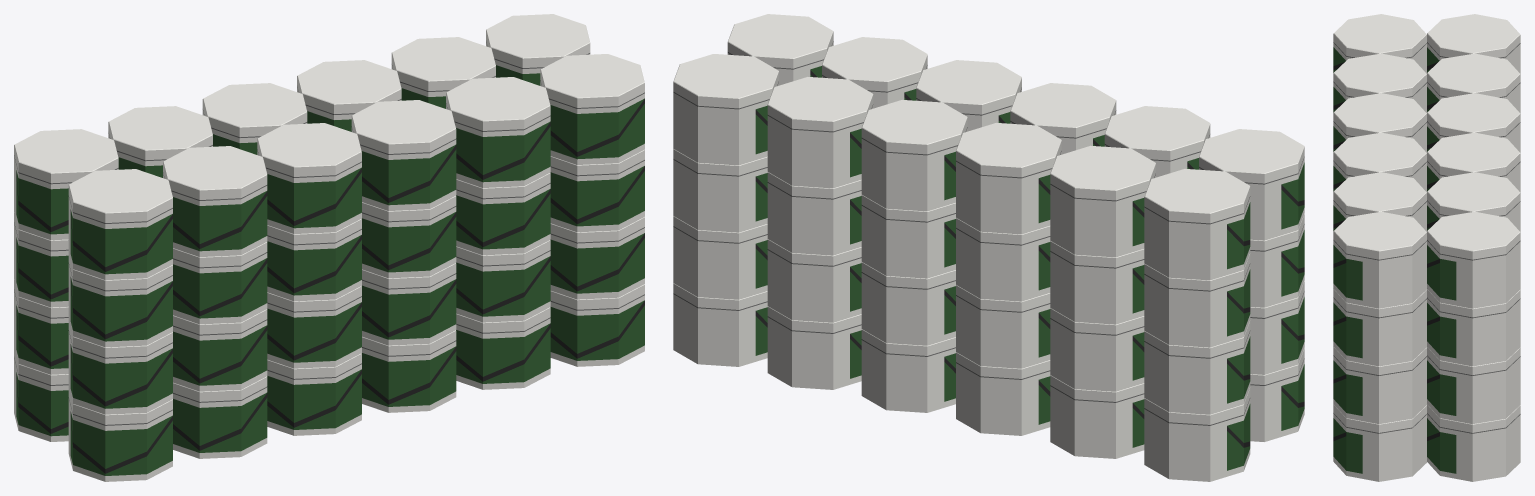
The model's file is SM_Cont_Set_B_B.fbx.
3 renders of one model, left to right at view 1: azimuth 30°, elevation 25°; view 2: azimuth 150°, elevation 25°; view 3: azimuth 270°, elevation 25°, orthographic. The views are drawn at different scales.
Parts seen in each view (by area): view 1: SM_Cont_Set_B_B; view 2: SM_Cont_Set_B_B; view 3: SM_Cont_Set_B_B.
Boxes of the visible parts, x1,y1,x2,y2 form: SM_Cont_Set_B_B: (14,14,644,481); SM_Cont_Set_B_B: (673,14,1304,481); SM_Cont_Set_B_B: (1333,14,1520,481).
Size of the model in its own units: 265 by 120 by 88.36.
